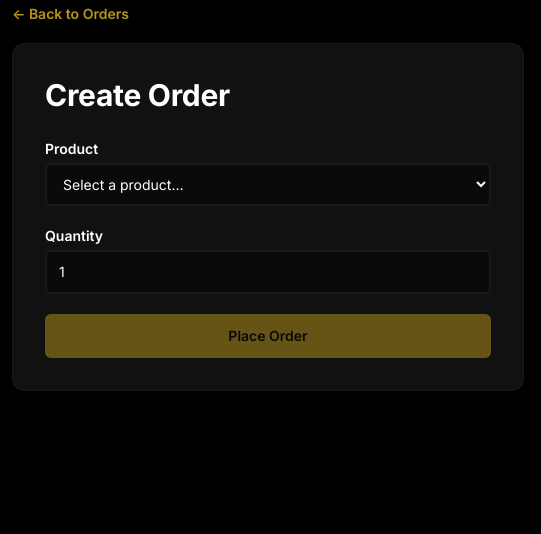
Scenario: CreateOrder › shows product preview when a product is selected
The width and height of the screenshot is (541, 534).
Select "Wireless Keyboard — $79.99" in the dropdown labelled "Product" at (268, 185), box [45,163,491,206]
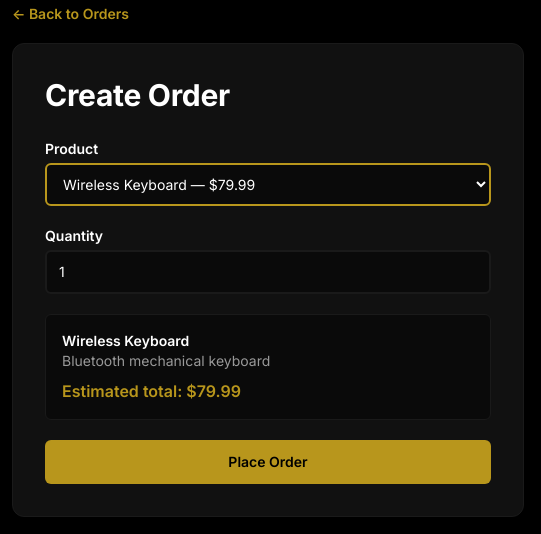
Check: the text "Bluetooth mechanical keyboard" is shown, box [62,352,270,369]
Check: the text "Estimated total: $79.99" is shown, box [62,381,241,401]
